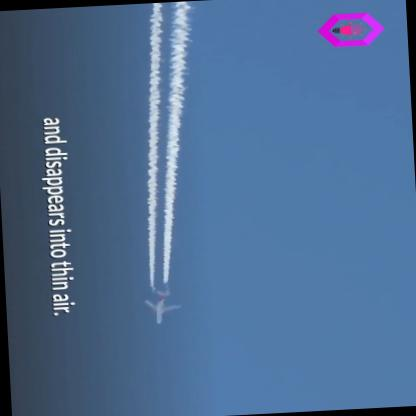plane: (136, 284, 190, 328)
